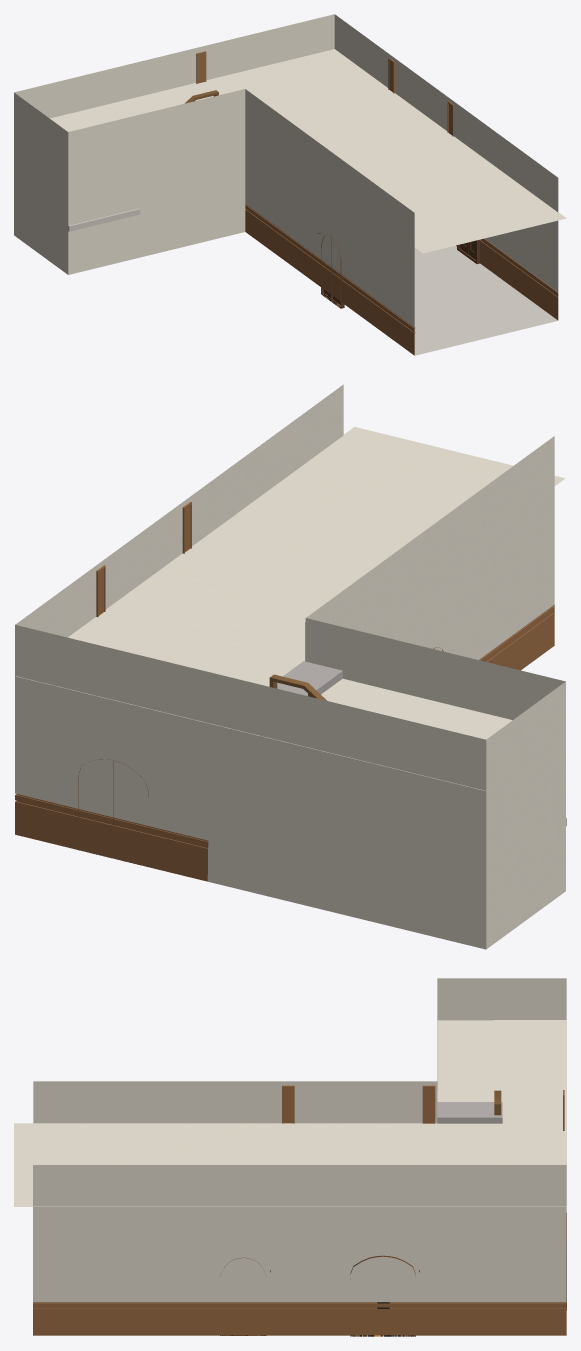
Rendered from corridor1.fbx.
The picture shows the model from 3 angles, top to bottom: view 1: azimuth 30°, elevation 25°; view 2: azimuth 150°, elevation 25°; view 3: azimuth 270°, elevation 25°; orthographic projection. The views are drawn at different scales.
Visible parts, largest first — view 1: corrodor1, Object193; view 2: corrodor1, Object193; view 3: corrodor1, Object193.
Boxes of the visible parts, bbox=[...] form: corrodor1: bbox=[14, 14, 558, 355]; Object193: bbox=[50, 49, 566, 253]; corrodor1: bbox=[15, 384, 566, 949]; Object193: bbox=[14, 427, 565, 790]; corrodor1: bbox=[33, 978, 566, 1336]; Object193: bbox=[14, 1020, 566, 1206].
Bounding box in the file's own units: 18.71 × 23.23 × 8.27.
2 materials, 2 textured.
